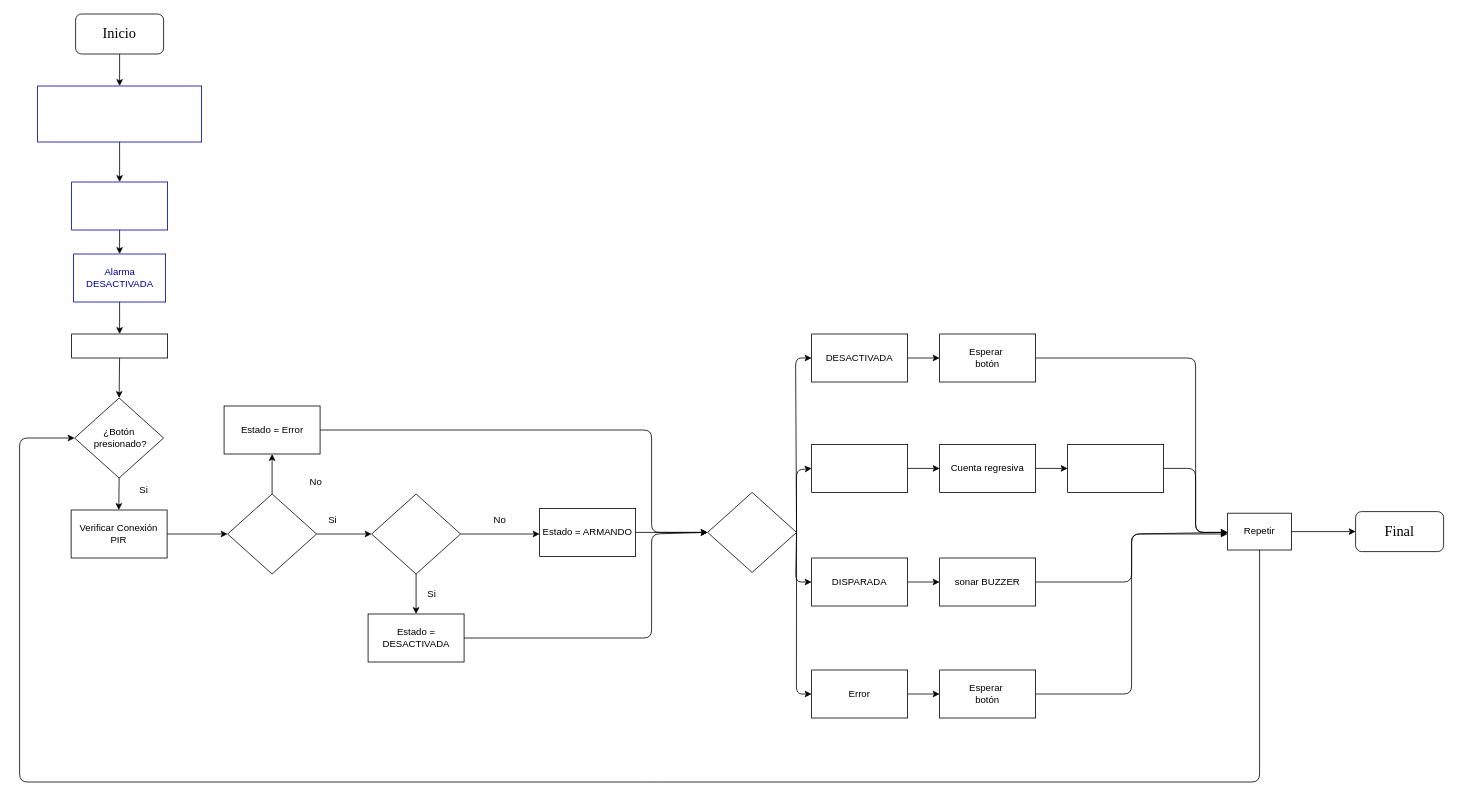
The diagram is 1458 pixels wide and 802 high, and some of its shapes have lost their labels. Each missing label, with the box of its shape:
ARMANDO: (811, 444, 908, 492)
Calibrar PIR (Cuenta regresiva): (71, 181, 168, 230)
Estado = ARMADA: (1067, 444, 1164, 492)
Estado Alarma: (707, 492, 797, 572)
Incializar pines Incializar LCD Incializar Sensores: PIR y BUZZER,: (37, 85, 202, 142)
Leer Botón: (71, 333, 168, 358)
¿Alarma ACTIVADA?: (371, 493, 461, 574)
¿Verificación exitosa?: (227, 493, 317, 574)
